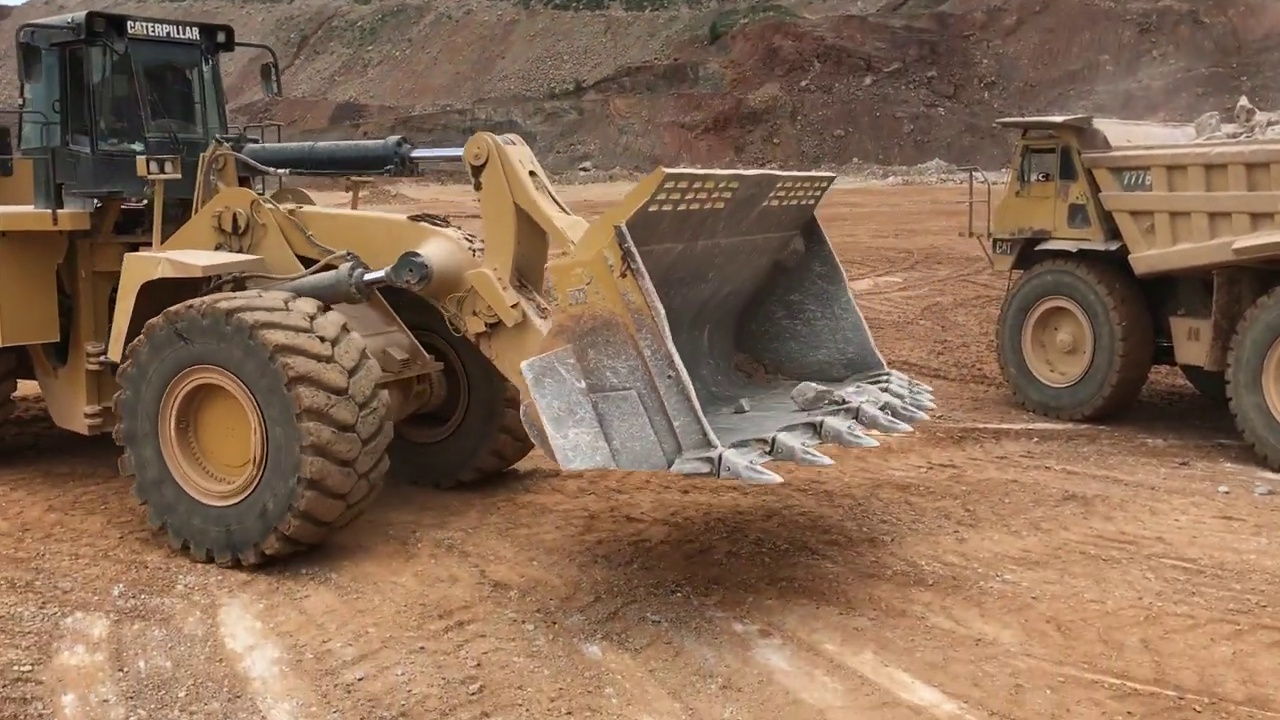dumper: (957, 109, 1280, 468)
wheel loader: (1, 9, 941, 569)
